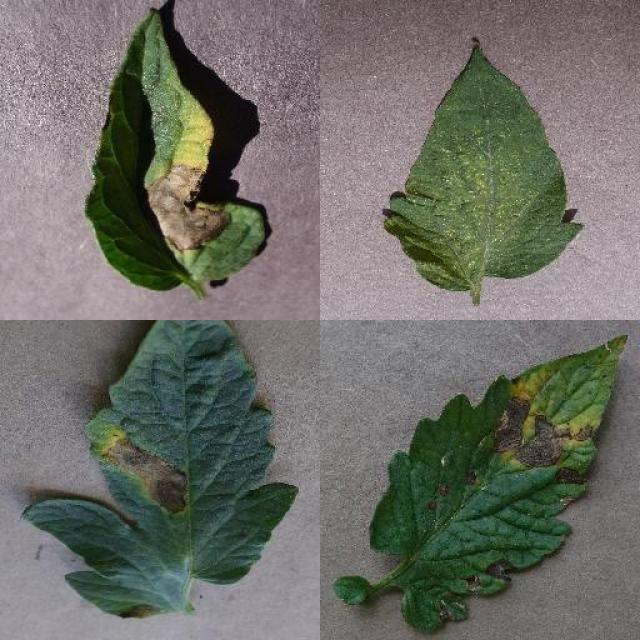Early Blight: (21, 320, 300, 620), (368, 335, 628, 637), (85, 8, 267, 292)
